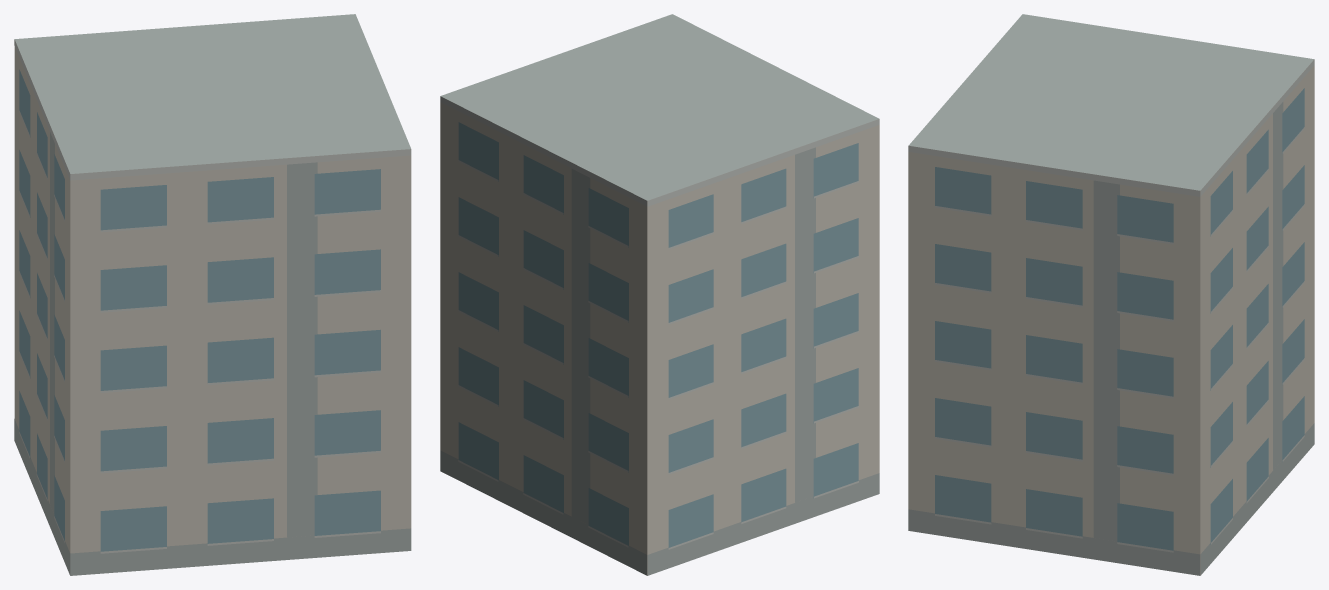
The model's file is residential-994a1f98-27c2-4dfd-a202-d1d21ff19eb0.glb.
The picture shows the model from 3 angles, left to right: view 1: azimuth 30°, elevation 25°; view 2: azimuth 150°, elevation 25°; view 3: azimuth 270°, elevation 25°; orthographic projection. The views are drawn at different scales.
Visible parts, largest first — view 1: residential-994a1f98-27c2-4dfd-a202-d1d21ff19eb0.tmp; view 2: residential-994a1f98-27c2-4dfd-a202-d1d21ff19eb0.tmp; view 3: residential-994a1f98-27c2-4dfd-a202-d1d21ff19eb0.tmp.
Boxes of the visible parts, box(x1,y1,x2,y2) form: residential-994a1f98-27c2-4dfd-a202-d1d21ff19eb0.tmp: box(14, 14, 411, 575); residential-994a1f98-27c2-4dfd-a202-d1d21ff19eb0.tmp: box(440, 14, 879, 575); residential-994a1f98-27c2-4dfd-a202-d1d21ff19eb0.tmp: box(908, 14, 1314, 575).
Bounding box in the file's own units: 15.02 × 15.25 × 14.58.
